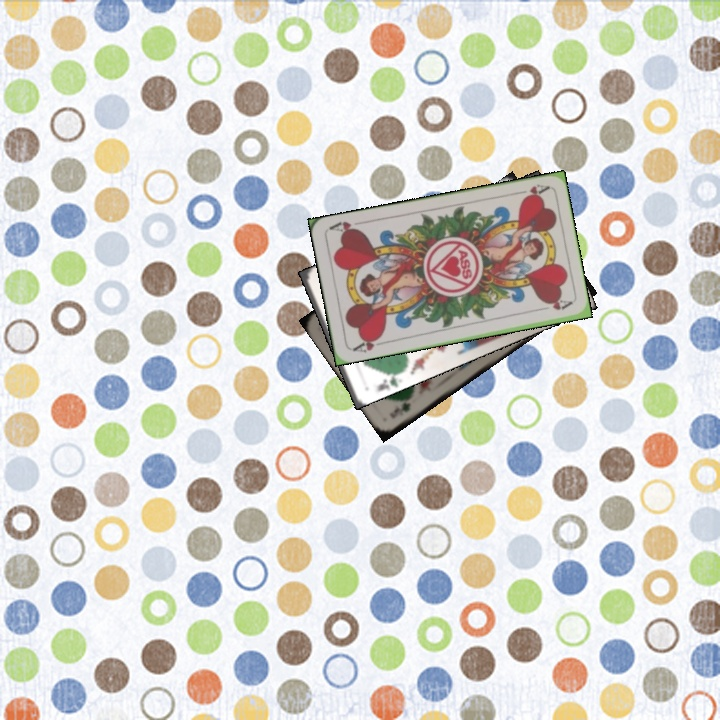GK: (373, 369, 402, 394), (388, 398, 413, 416)
HA: (510, 180, 551, 202), (349, 332, 388, 355)
